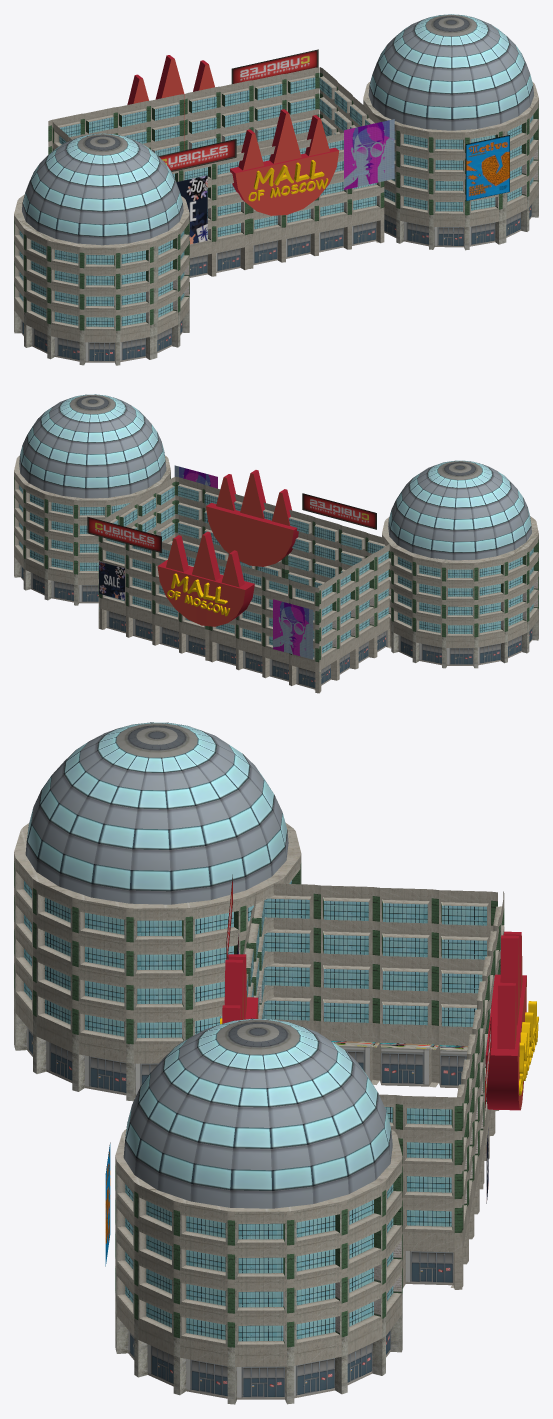
File: MALL.fbx
3 renders of one model, top to bottom at view 1: azimuth 30°, elevation 25°; view 2: azimuth 150°, elevation 25°; view 3: azimuth 270°, elevation 25°, orthographic. The views are drawn at different scales.
Parts seen in each view (by area): view 1: pCylinder25__1_, pCylinder25, pCylinder25__3_, pCylinder25__4_, pCylinder30__4_, pCylinder30, mall_pic, pCylinder30__3_, pCylinder30__1_, poster27__61_, poster27__44_, pCylinder30__5_ (+5 smaller); view 2: pCylinder25__1_, pCylinder25__3_, pCylinder25__4_, pCylinder25, pCylinder30__1_, pCylinder30__2_, pCylinder30, mall_pic, mall_pic__1_, pCylinder30__3_, pCylinder30__4_, pCylinder30__5_ (+6 smaller); view 3: pCylinder25, pCylinder25__1_, pCylinder25__3_, pCylinder25__4_, pCylinder30__2_, pCylinder30__5_, mall_pic__1_, pCylinder30, pCylinder30__1_, pCylinder30__3_, mall_pic, typeMesh1__2_.
Part boxes in pixels (left/top/right/bottom): pCylinder25__1_: left=14, top=194, right=189, bottom=365; pCylinder25: left=363, top=81, right=538, bottom=250; pCylinder25__3_: left=368, top=14, right=534, bottom=130; pCylinder25__4_: left=22, top=133, right=183, bottom=245; pCylinder30__4_: left=248, top=132, right=384, bottom=268; pCylinder30: left=184, top=67, right=319, bottom=153; mall_pic: left=230, top=109, right=339, bottom=215; pCylinder30__3_: left=172, top=152, right=248, bottom=277; pCylinder30__1_: left=48, top=94, right=183, bottom=155; poster27__61_: left=344, top=119, right=394, bottom=189; poster27__44_: left=465, top=135, right=509, bottom=201; pCylinder30__5_: left=319, top=67, right=381, bottom=242; pCylinder25__1_: left=382, top=516, right=538, bottom=668; pCylinder25__3_: left=19, top=394, right=166, bottom=498; pCylinder25__4_: left=388, top=460, right=531, bottom=560; pCylinder25: left=14, top=455, right=170, bottom=605; pCylinder30__1_: left=209, top=558, right=321, bottom=693; pCylinder30__2_: left=314, top=544, right=391, bottom=690; pCylinder30: left=99, top=536, right=209, bottom=660; mall_pic: left=206, top=470, right=298, bottom=566; mall_pic__1_: left=157, top=531, right=254, bottom=626; pCylinder30__3_: left=285, top=510, right=391, bottom=648; pCylinder30__4_: left=175, top=476, right=284, bottom=578; pCylinder30__5_: left=98, top=477, right=175, bottom=629; pCylinder25: left=115, top=1129, right=402, bottom=1404; pCylinder25__1_: left=14, top=822, right=301, bottom=1101; pCylinder25__3_: left=123, top=1018, right=392, bottom=1208; pCylinder25__4_: left=25, top=722, right=288, bottom=904; pCylinder30__2_: left=264, top=883, right=497, bottom=1088; pCylinder30__5_: left=379, top=1094, right=462, bottom=1289; mall_pic__1_: left=485, top=931, right=526, bottom=1110; pCylinder30: left=450, top=994, right=483, bottom=1288; pCylinder30__1_: left=477, top=891, right=504, bottom=1183; pCylinder30__3_: left=243, top=892, right=264, bottom=1018; mall_pic: left=222, top=954, right=258, bottom=1023; typeMesh1__2_: left=519, top=1001, right=538, bottom=1095.
Bounding box in the file's own units: 9319 × 3210 × 4874.
4 materials, 4 textured.
